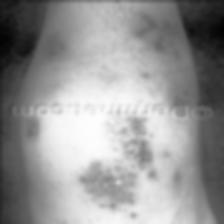Non-Cancerous Skin Condition: (17, 116, 196, 224), (22, 0, 191, 102)
